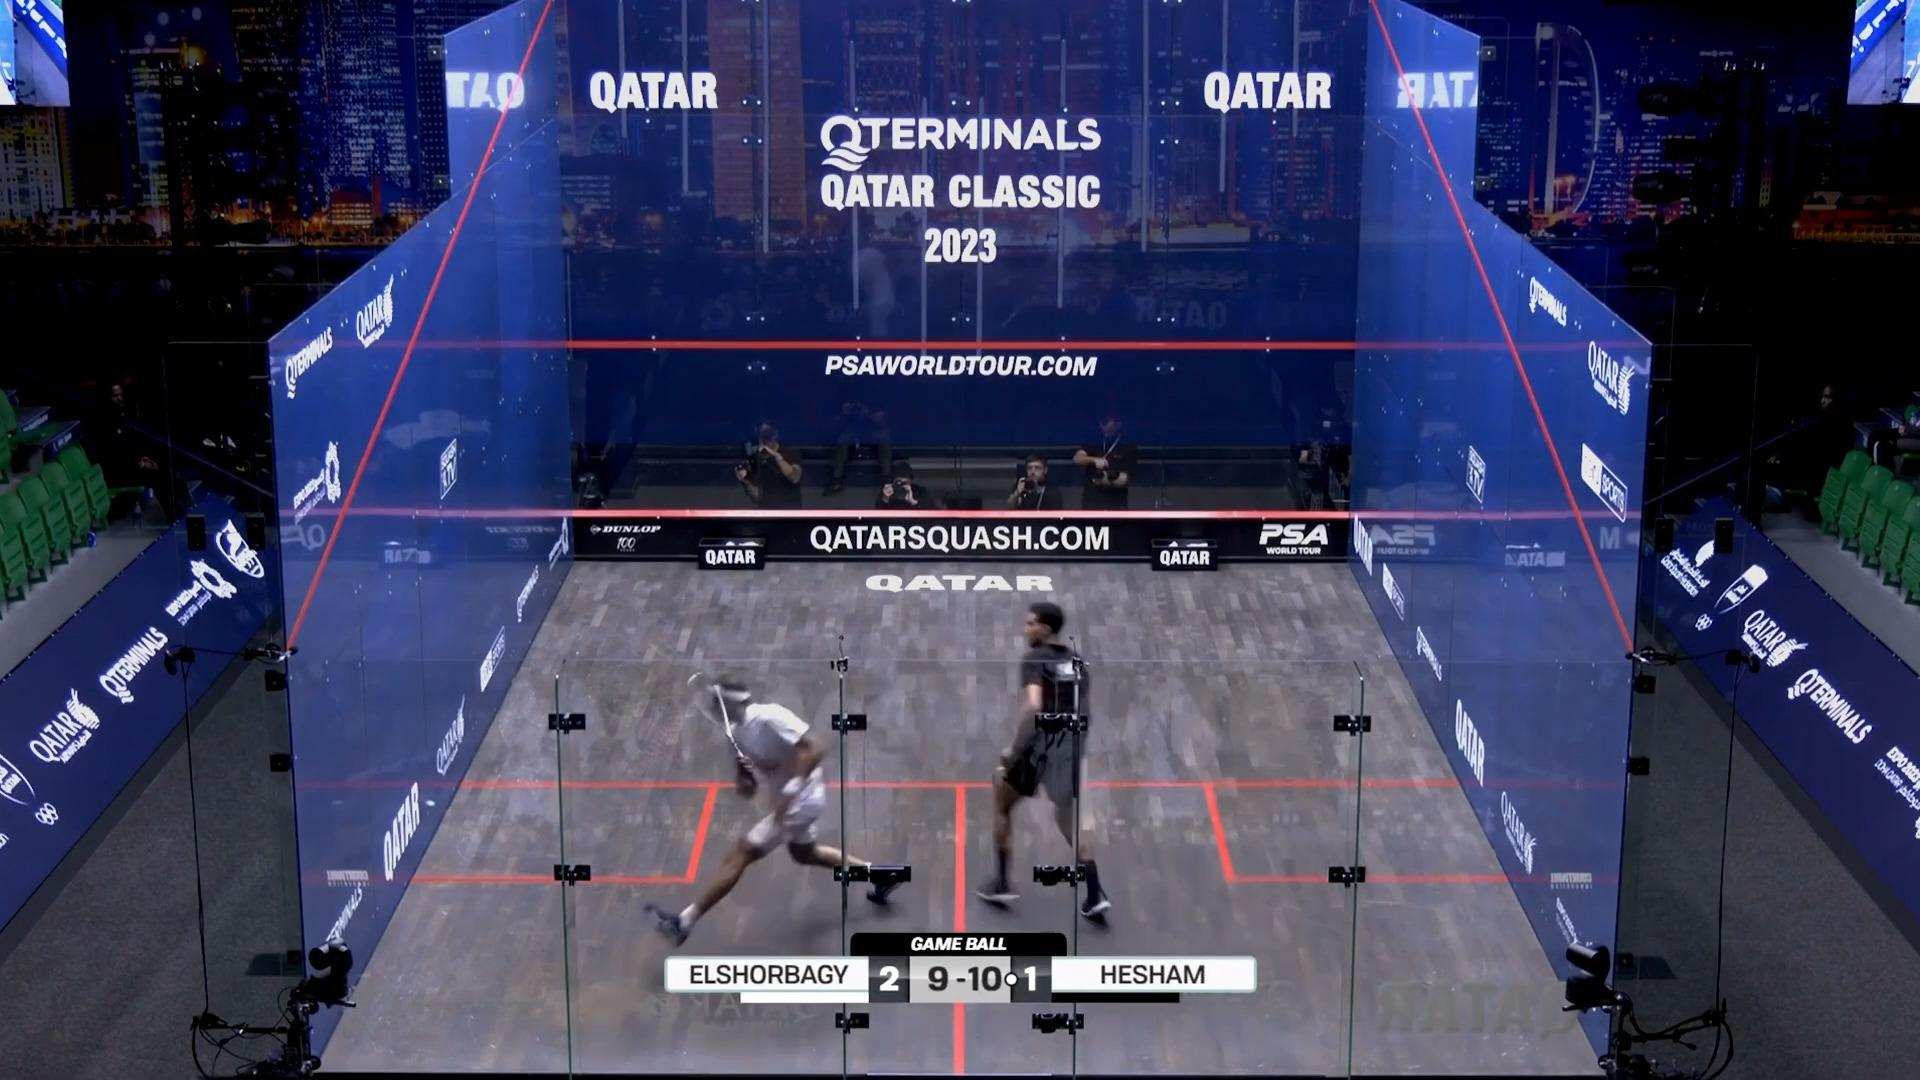Squash-Ball: (422, 794, 442, 812)
